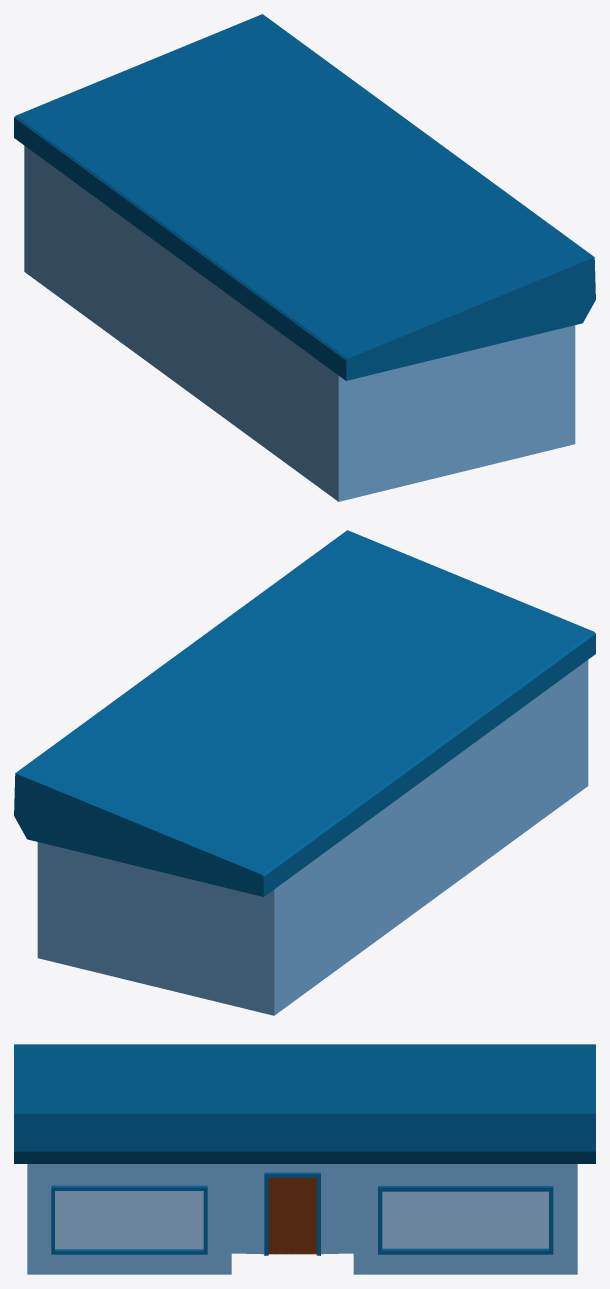
The model's file is blue residential building 3.fbx.
3 views of the same model, one above another, from view 1: azimuth 30°, elevation 25°; view 2: azimuth 150°, elevation 25°; view 3: azimuth 270°, elevation 25° (orthographic). The views are drawn at different scales.
Parts seen in each view (by area): view 1: Cube; view 2: Cube; view 3: Cube.
Boxes of the visible parts, x1,y1,x2,y2 form: Cube: (14, 14, 595, 501); Cube: (14, 530, 595, 1015); Cube: (14, 1044, 595, 1274).
Bounding box in the file's own units: 414 × 301 × 953.
